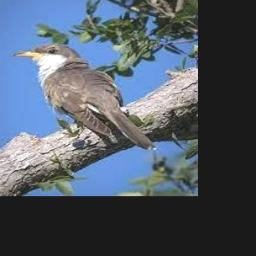Cuckoo: (14, 44, 158, 150)
